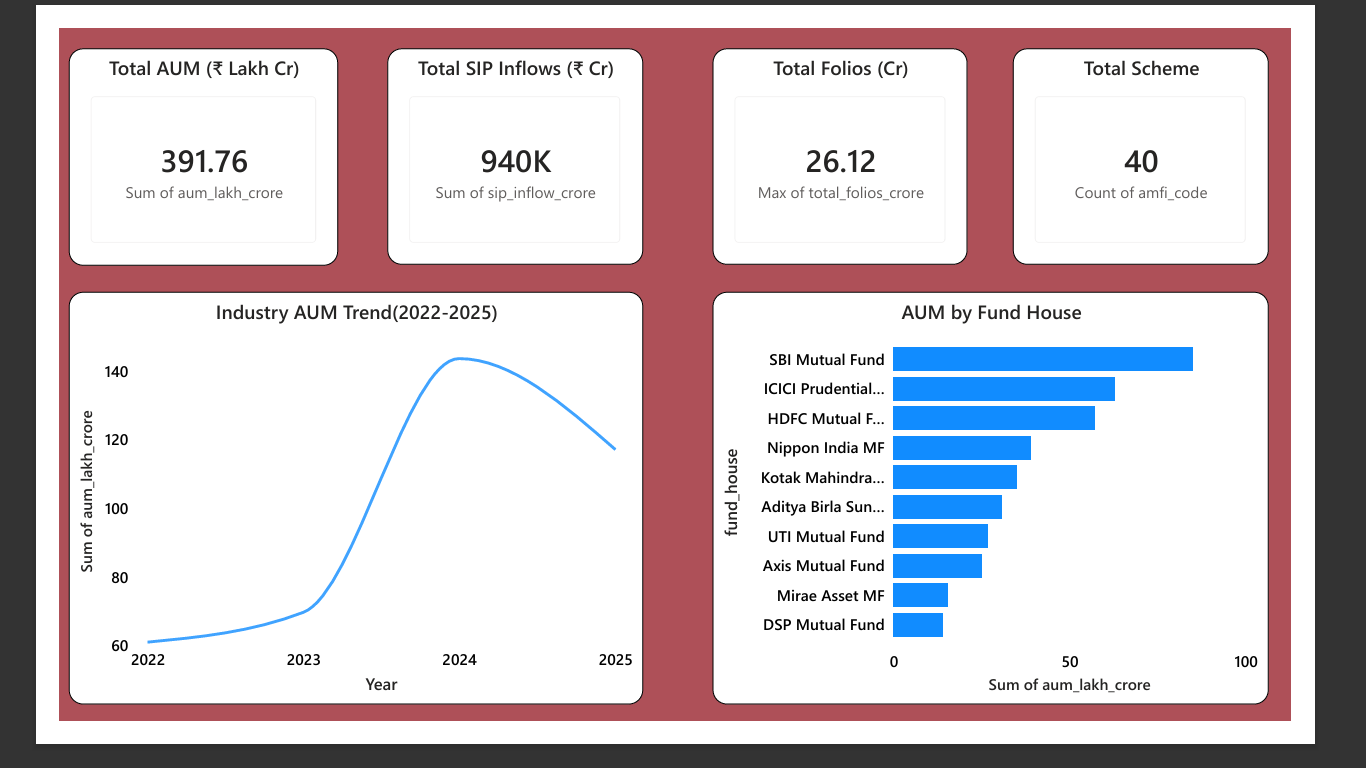

This screenshot's page, from the dashboard's own definition file:
{"tool":"powerbi","page":{"name":"Industry Overview","canvas":[1280,720],"ordinal":0},"visuals":[{"type":"cardVisual","title":"Total AUM (₹ Lakh Cr)","fields":{"Data":["Sum(03_aum_by_fund_house.aum_lakh_crore)"]},"box":[9.9,21.1,280.5,225.6],"z":0},{"type":"cardVisual","title":"Total SIP Inflows (₹ Cr)","fields":{"Data":["Sum(04_monthly_sip_inflows.sip_inflow_crore)"]},"box":[341.3,20.6,265.6,225.7],"z":1000},{"type":"cardVisual","title":"Total Folios (Cr)","fields":{"Data":["Max(06_industry_folio_count.total_folios_crore)"]},"box":[678.5,20.6,265.6,225.7],"z":2000},{"type":"cardVisual","title":"Total Scheme","fields":{"Data":["CountNonNull(01_fund_master.amfi_code)"]},"box":[991,20.6,265.6,225.7],"z":3000},{"type":"lineChart","title":"Industry AUM Trend(2022-2025)","fields":{"Category":["03_aum_by_fund_house.date.Variation.Date Hierarchy.Year","03_aum_by_fund_house.date.Variation.Date Hierarchy.Quarter","03_aum_by_fund_house.date.Variation.Date Hierarchy.Month","03_aum_by_fund_house.date.Variation.Date Hierarchy.Day"],"Y":["Sum(03_aum_by_fund_house.aum_lakh_crore)"]},"box":[9.6,273.9,597.3,429.4],"z":4000},{"type":"clusteredBarChart","title":"AUM by Fund House","fields":{"Category":["03_aum_by_fund_house.fund_house"],"Y":["Sum(03_aum_by_fund_house.aum_lakh_crore)"]},"box":[678.5,273.9,578.1,429.4],"z":5000}]}

Visuals, with their boxes in screenshot pixels (x1, y1, x2, y2), scaled from the page's 1280x720 canvas onto the 1366x768 screenshot:
"Total AUM (₹ Lakh Cr)" cardVisual: [11, 23, 310, 263]
"Total SIP Inflows (₹ Cr)" cardVisual: [364, 22, 648, 263]
"Total Folios (Cr)" cardVisual: [724, 22, 1008, 263]
"Total Scheme" cardVisual: [1058, 22, 1341, 263]
"Industry AUM Trend(2022-2025)" lineChart: [10, 292, 648, 750]
"AUM by Fund House" clusteredBarChart: [724, 292, 1341, 750]
